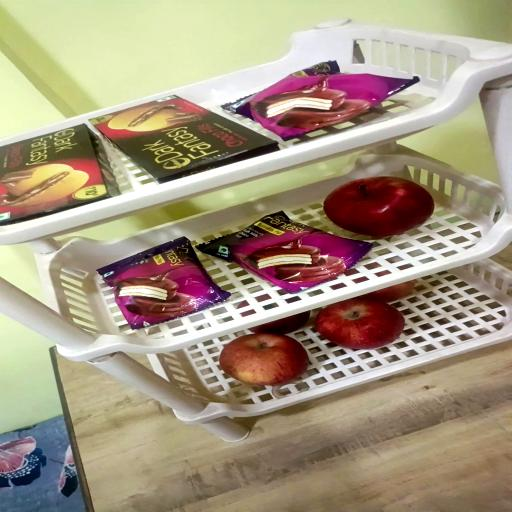Apple: (322, 178, 434, 240), (221, 333, 311, 386), (315, 300, 405, 350), (251, 312, 311, 335), (358, 281, 416, 303)
Choco Fills: (88, 94, 278, 184), (0, 123, 118, 224)
Choco Pie: (223, 60, 419, 140), (201, 212, 373, 294), (97, 238, 227, 330)
